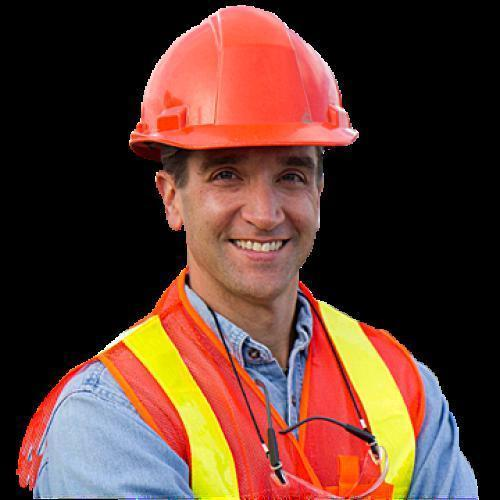helmet: (130, 6, 358, 161)
